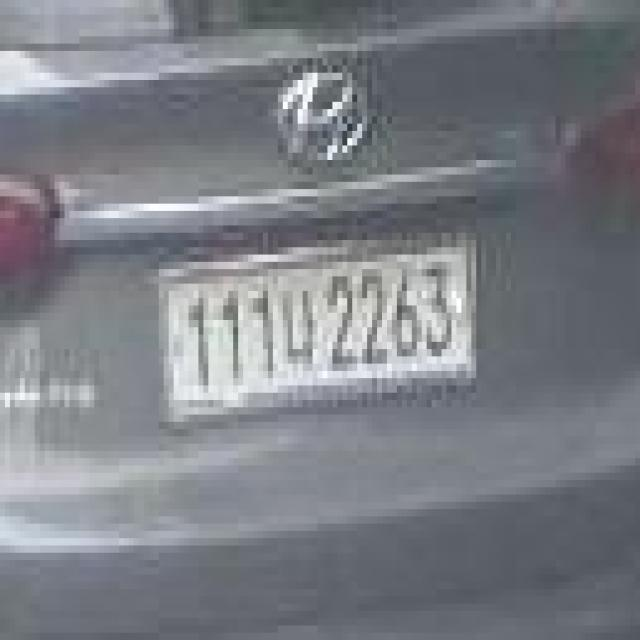illegal_plate: (156, 233, 484, 422)
